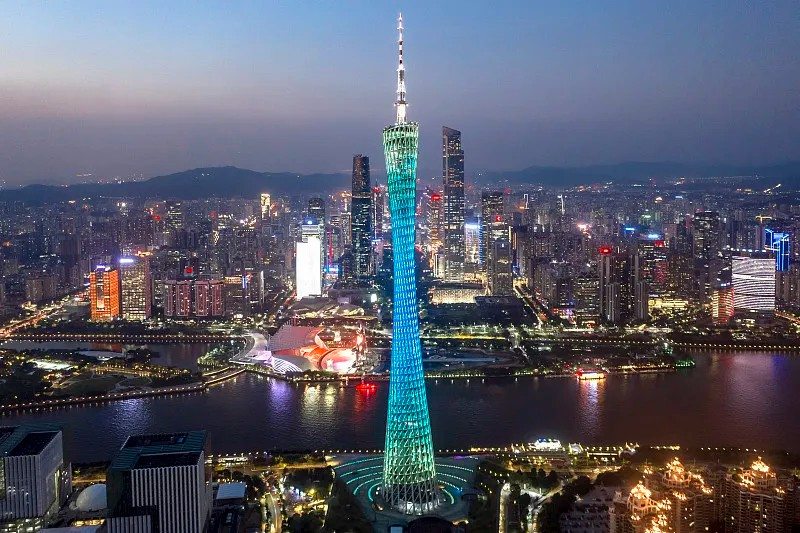Canton: (370, 10, 447, 512)
